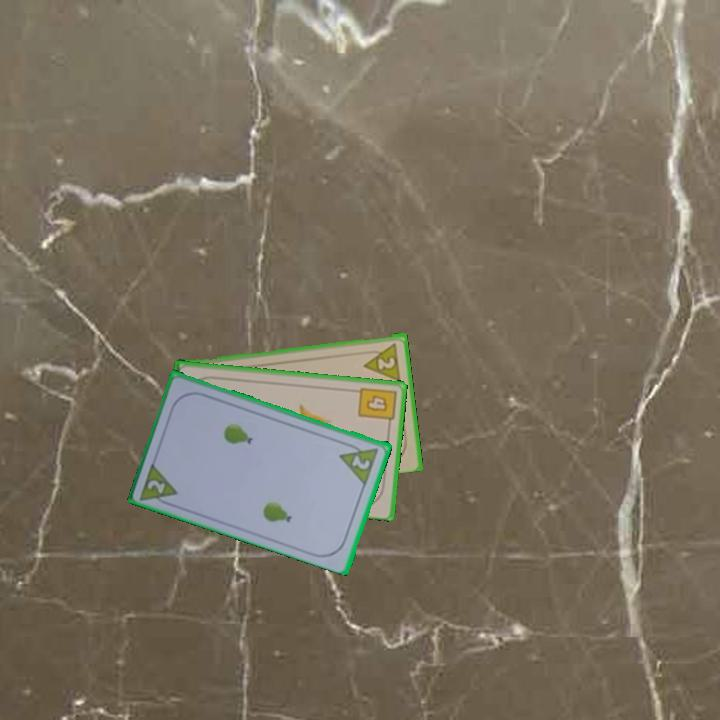2p: (136, 458, 182, 510), (349, 452, 373, 473), (374, 353, 398, 372)
4b: (355, 384, 399, 429)
